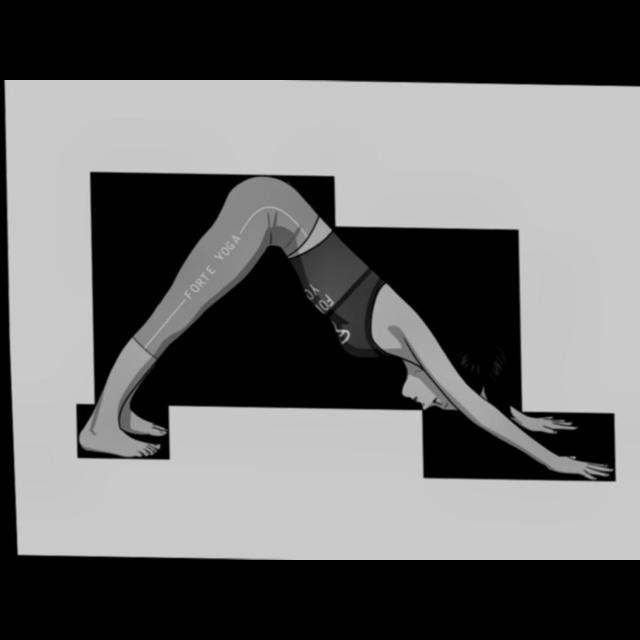Downward-Facing_Dog: (74, 168, 615, 486)
